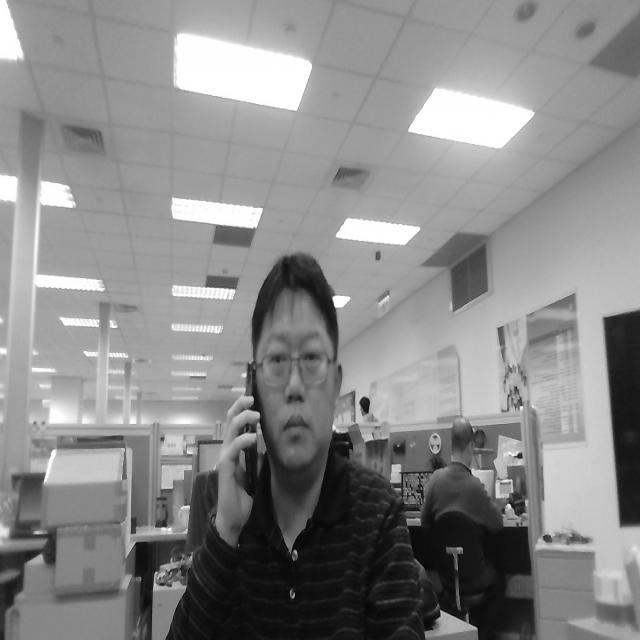phone: (210, 345, 280, 537)
